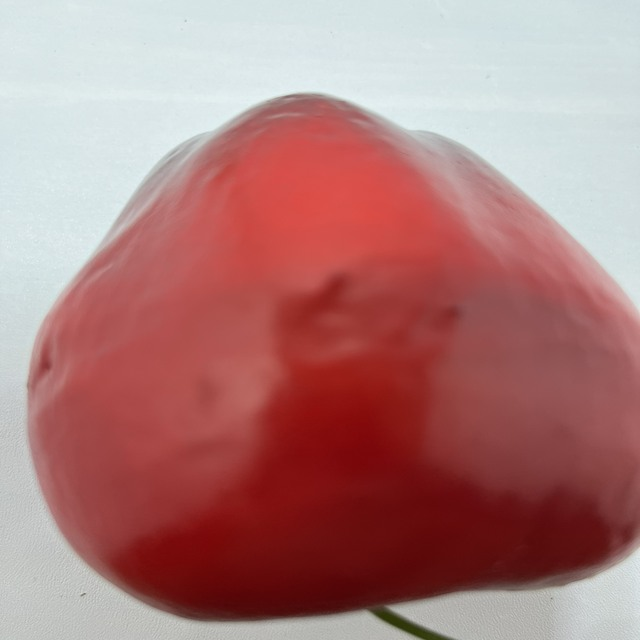Tao: (19, 78, 640, 634)
